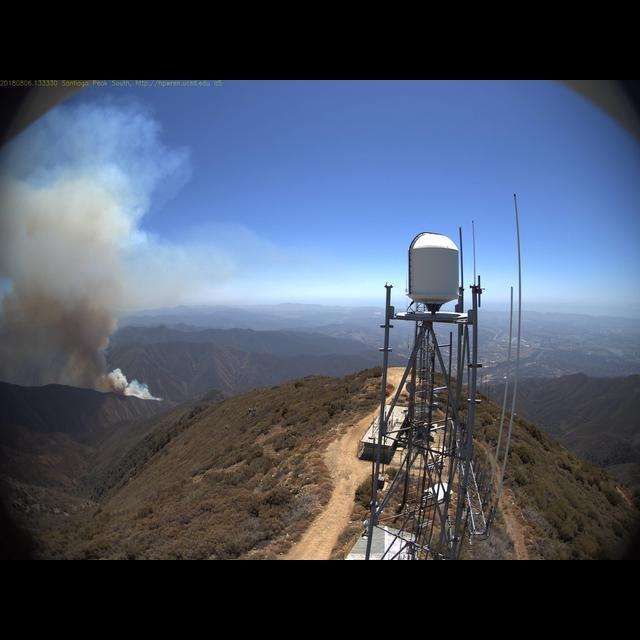Smoke: (2, 97, 164, 405)
